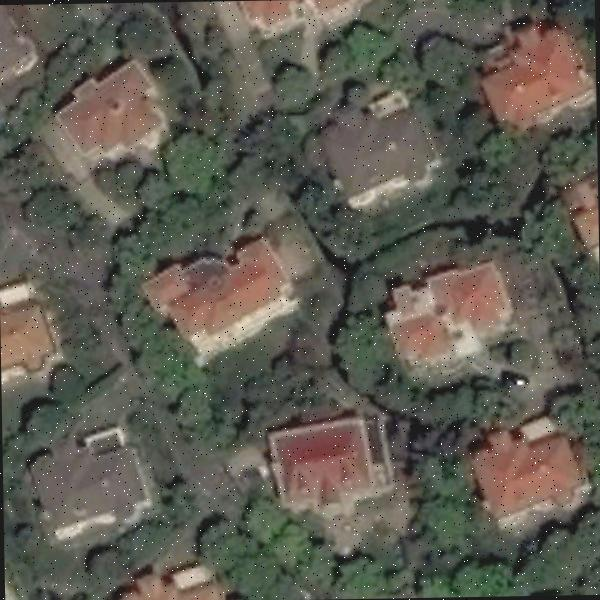Buildings: (133, 243, 312, 372), (458, 419, 600, 546), (29, 432, 165, 548), (302, 109, 456, 204), (259, 420, 402, 517), (385, 263, 520, 361), (43, 70, 179, 166), (467, 26, 596, 126), (229, 0, 380, 51), (4, 264, 57, 376), (0, 4, 46, 118), (547, 169, 599, 262), (105, 565, 240, 600)
